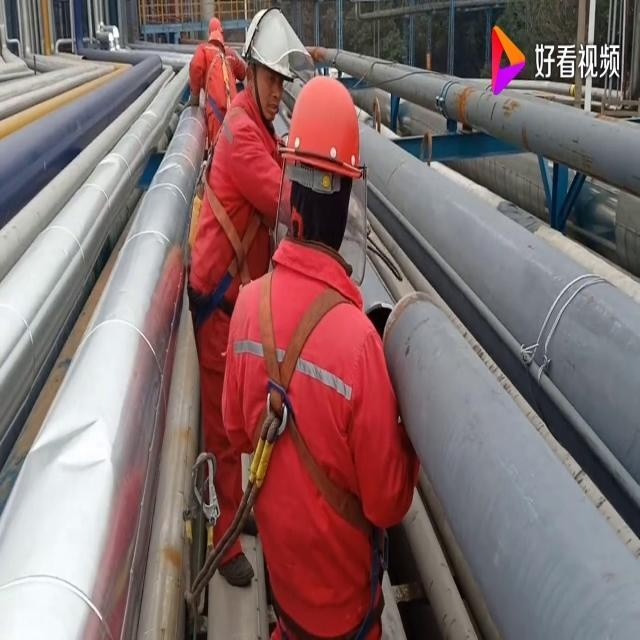Arnes_seguridad: (253, 265, 388, 570), (194, 96, 280, 286)
